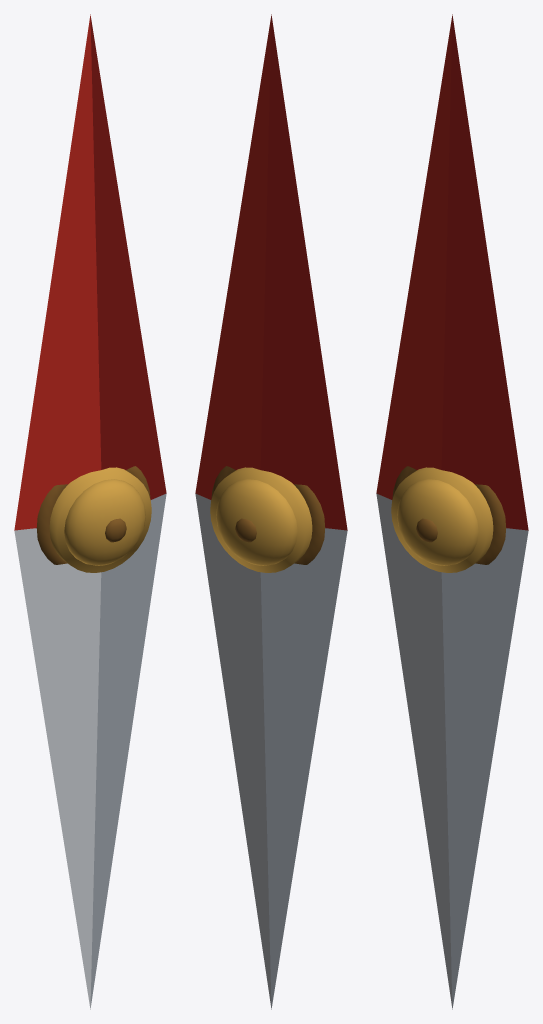
The model's file is compass_needle.glb.
The picture shows the model from 3 angles, left to right: view 1: azimuth 30°, elevation 25°; view 2: azimuth 150°, elevation 25°; view 3: azimuth 330°, elevation 25°; orthographic projection.
Parts seen in each view (by area): view 1: compass_needle; view 2: compass_needle; view 3: compass_needle.
Part boxes in pixels (x1=…): compass_needle: x1=14, y1=14, x2=166, y2=1009; compass_needle: x1=195, y1=14, x2=347, y2=1009; compass_needle: x1=376, y1=14, x2=528, y2=1009.
Size of the model in its own units: 0.16 by 1 by 0.102.
